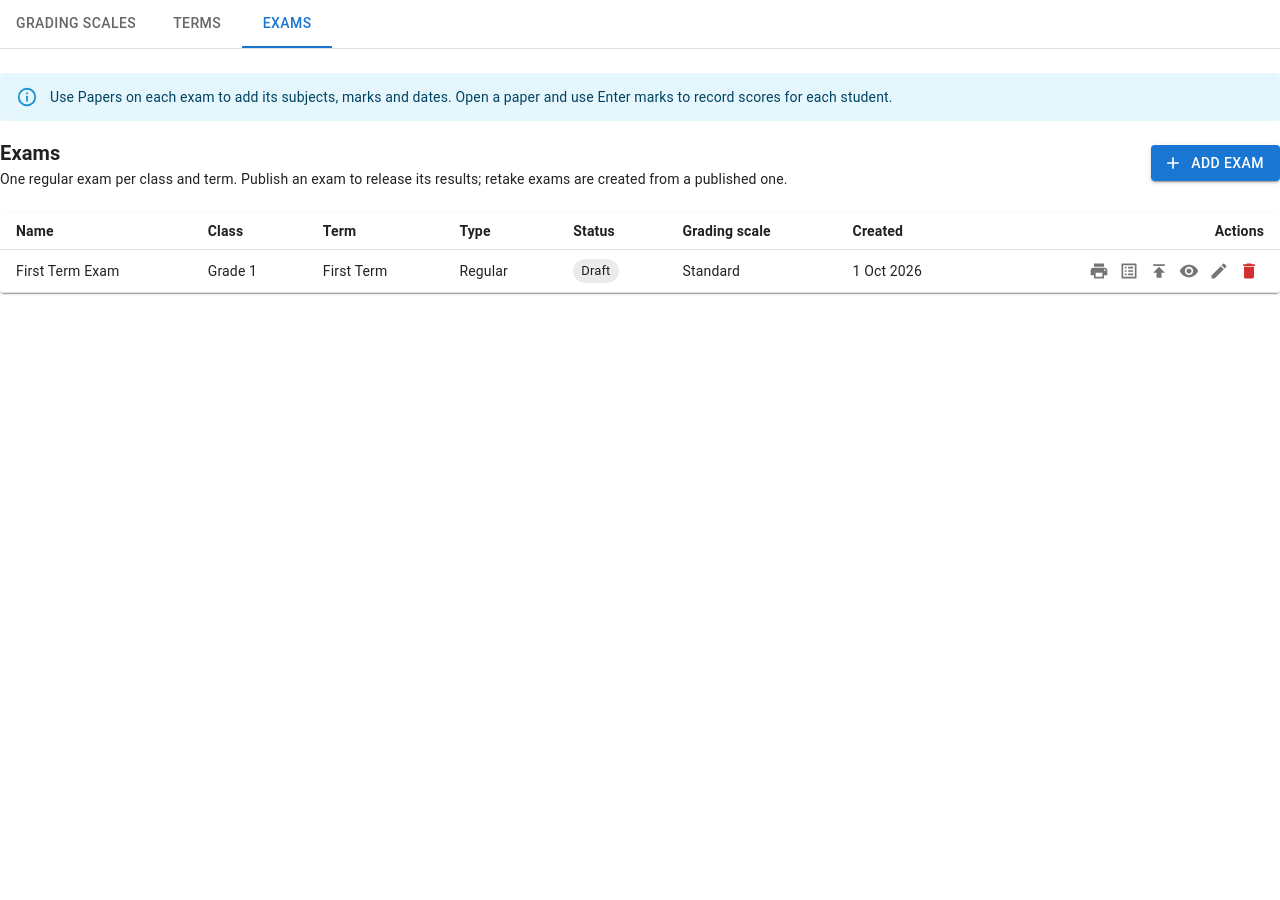
Test: ExaminationsManager exams › opens the papers of an exam from its row
Click the button named "Papers" at (1129, 271), box [1114,256,1144,286]
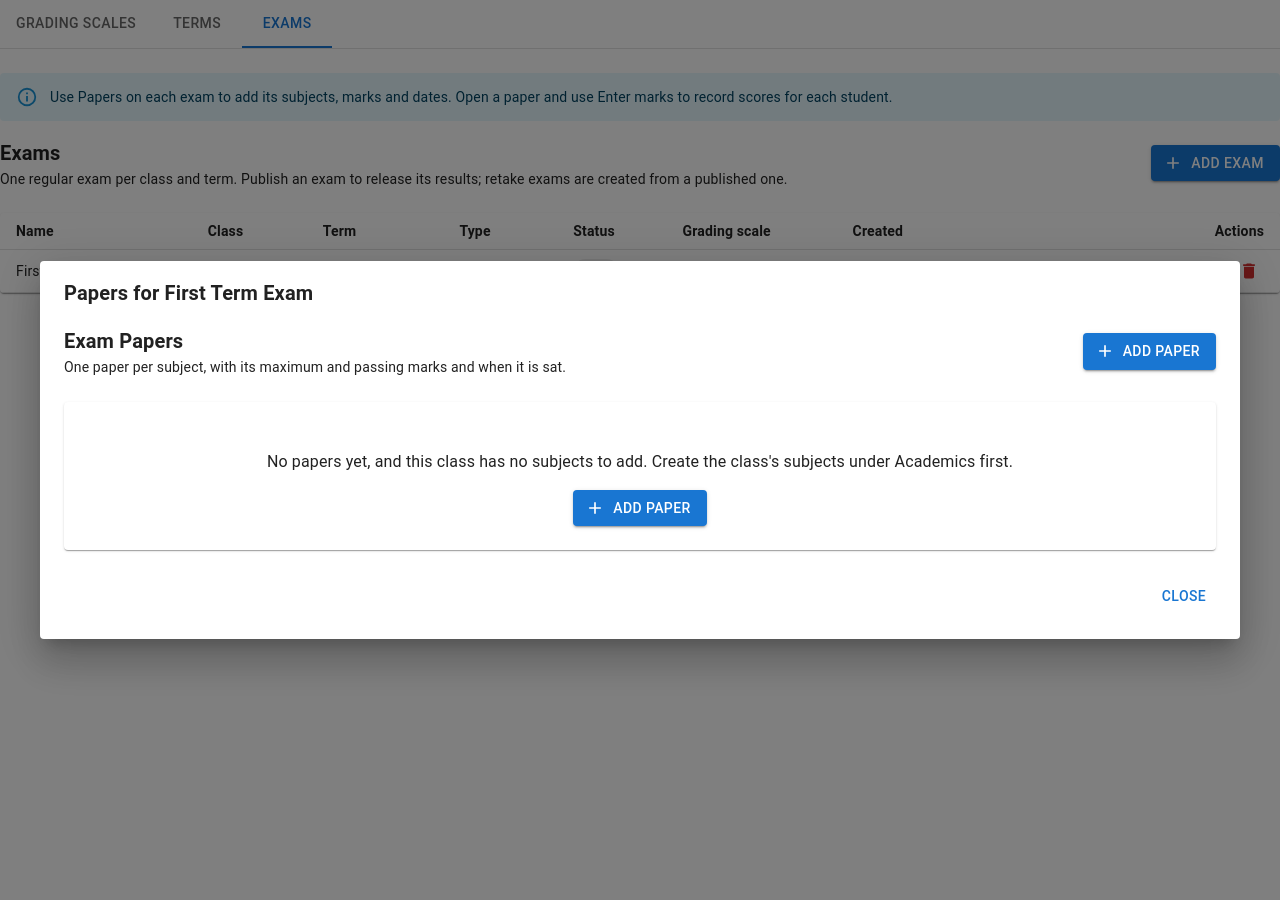
Check: the heading "Papers for First Term Exam" is shown, box [64,282,313,306]
